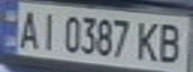0: (60, 12, 81, 54)
3: (78, 13, 96, 55)
7: (112, 16, 136, 60)
8: (93, 15, 115, 57)
A: (15, 6, 42, 51)
B: (154, 20, 187, 64)
I: (36, 8, 60, 52)
K: (133, 18, 163, 62)
